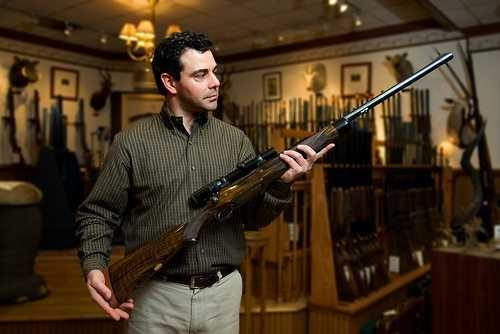heavyweapon: (102, 36, 458, 307)
